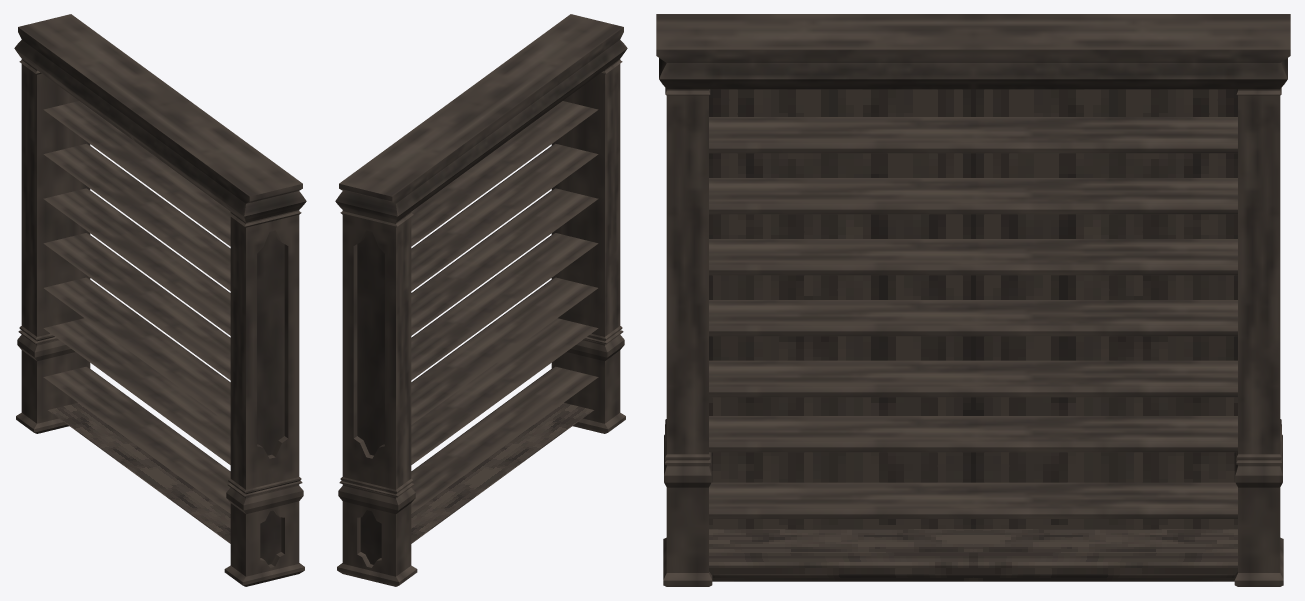
Rendered from E_BookShelve.fbx.
The picture shows the model from 3 angles, left to right: view 1: azimuth 30°, elevation 25°; view 2: azimuth 150°, elevation 25°; view 3: azimuth 270°, elevation 25°; orthographic projection. The views are drawn at different scales.
Visible parts, largest first — view 1: Cube.109, Cube.107; view 2: Cube.109, Cube.107; view 3: Cube.109, Cube.107.
Part boxes in pixels (box(x1,y1,x2,y2)): Cube.109: box(14, 14, 306, 586); Cube.107: box(48, 403, 230, 543); Cube.109: box(335, 14, 627, 586); Cube.107: box(411, 403, 593, 543); Cube.109: box(656, 14, 1290, 586); Cube.107: box(709, 89, 1237, 581).
Size of the model in its own units: 105 by 629 by 672.
